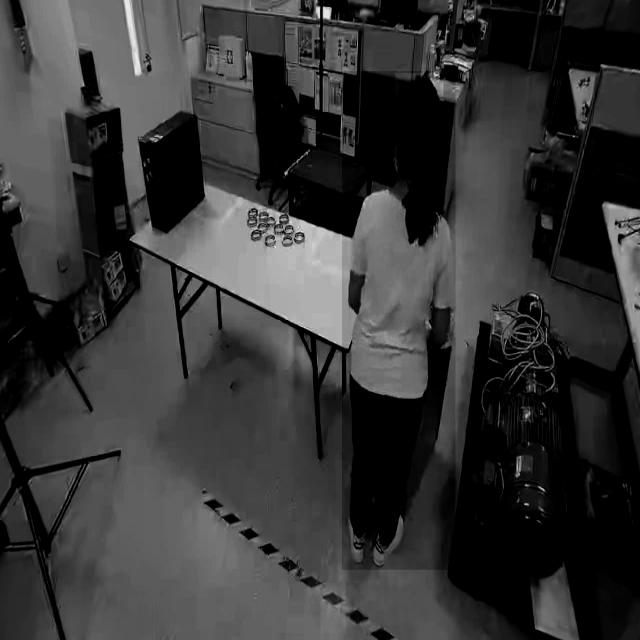head_nohelmet: (395, 73, 444, 119)
person: (342, 71, 456, 571)
shoes: (372, 509, 406, 567), (345, 495, 369, 565)
